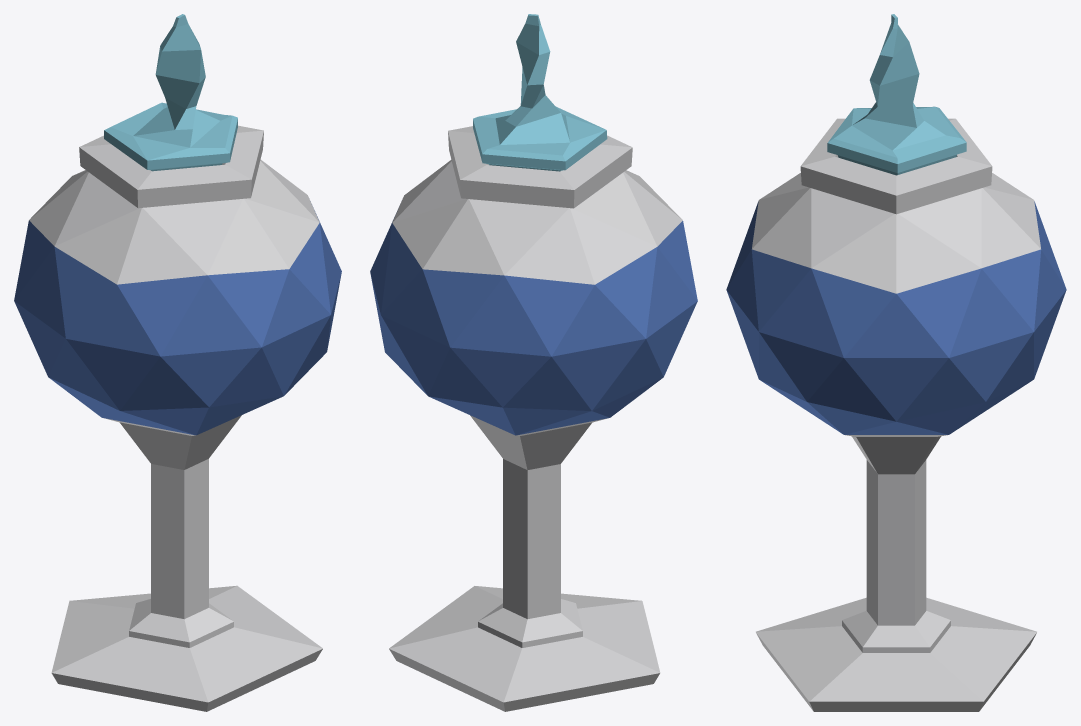
File: WF_LP_HT_Props_PotionBottle.004.fbx
3 renders of one model, left to right at view 1: azimuth 30°, elevation 25°; view 2: azimuth 150°, elevation 25°; view 3: azimuth 270°, elevation 25°, orthographic.
Parts seen in each view (by area): view 1: WF_LP_HT_Props_PotionBottle.004; view 2: WF_LP_HT_Props_PotionBottle.004; view 3: WF_LP_HT_Props_PotionBottle.004.
Boxes of the visible parts, bbox=[...] form: WF_LP_HT_Props_PotionBottle.004: bbox=[14, 14, 341, 711]; WF_LP_HT_Props_PotionBottle.004: bbox=[370, 14, 697, 711]; WF_LP_HT_Props_PotionBottle.004: bbox=[726, 14, 1066, 711].
Bounding box in the file's own units: 0.105 × 0.2321 × 0.1104.
